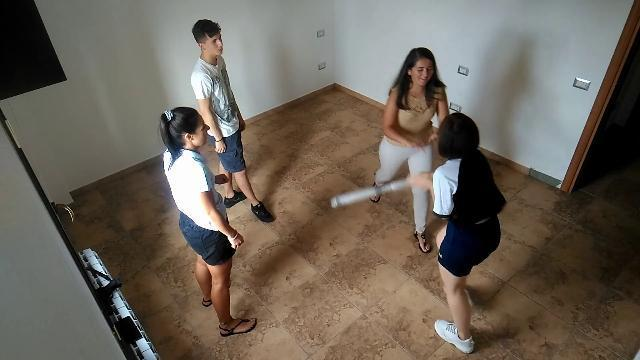non-violence: (156, 105, 260, 339), (187, 18, 277, 226)
violence: (331, 45, 507, 355)
